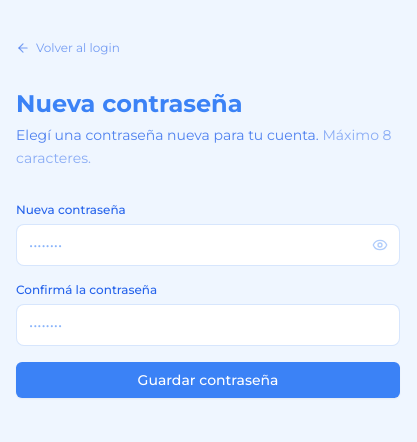
it: NuevaPasswordPage › con token en la URL › debería mostrar el error del servidor cuando falla
The width and height of the screenshot is (417, 442).
Type "nueva12" into the password field with id "clave". click: [208, 245]
box: x1=16 y1=224 x2=400 y2=266
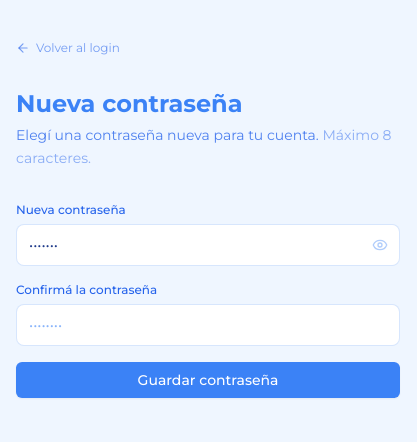
Type "nueva12" into the password field with id "confirm". click: [208, 325]
box: x1=16 y1=304 x2=400 y2=346
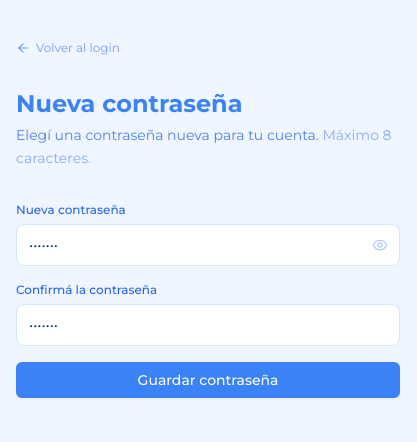
Submit the form, box x1=16 y1=202 x2=400 y2=398
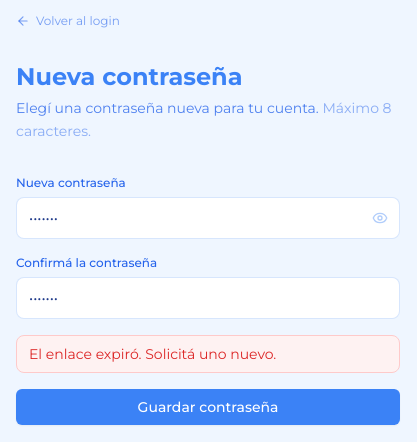
Now the text "El enlace expiró. Solicitá uno nuevo." is shown, box x1=16 y1=335 x2=400 y2=373
